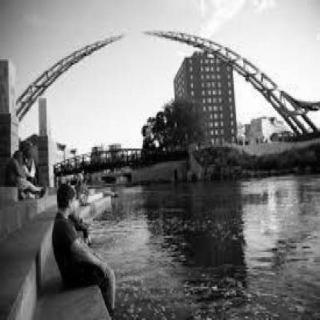other: (264, 182, 286, 234), (87, 187, 115, 213)
